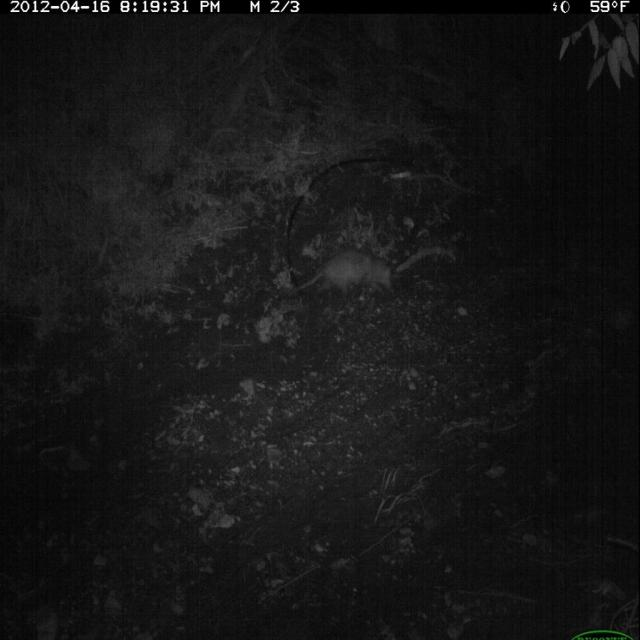opossum: (278, 240, 410, 324)
